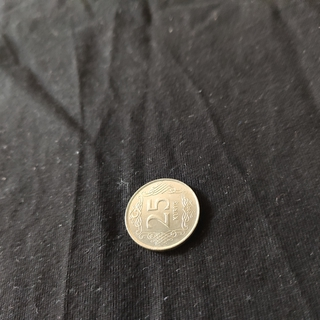25KURUS: (122, 176, 202, 252)
